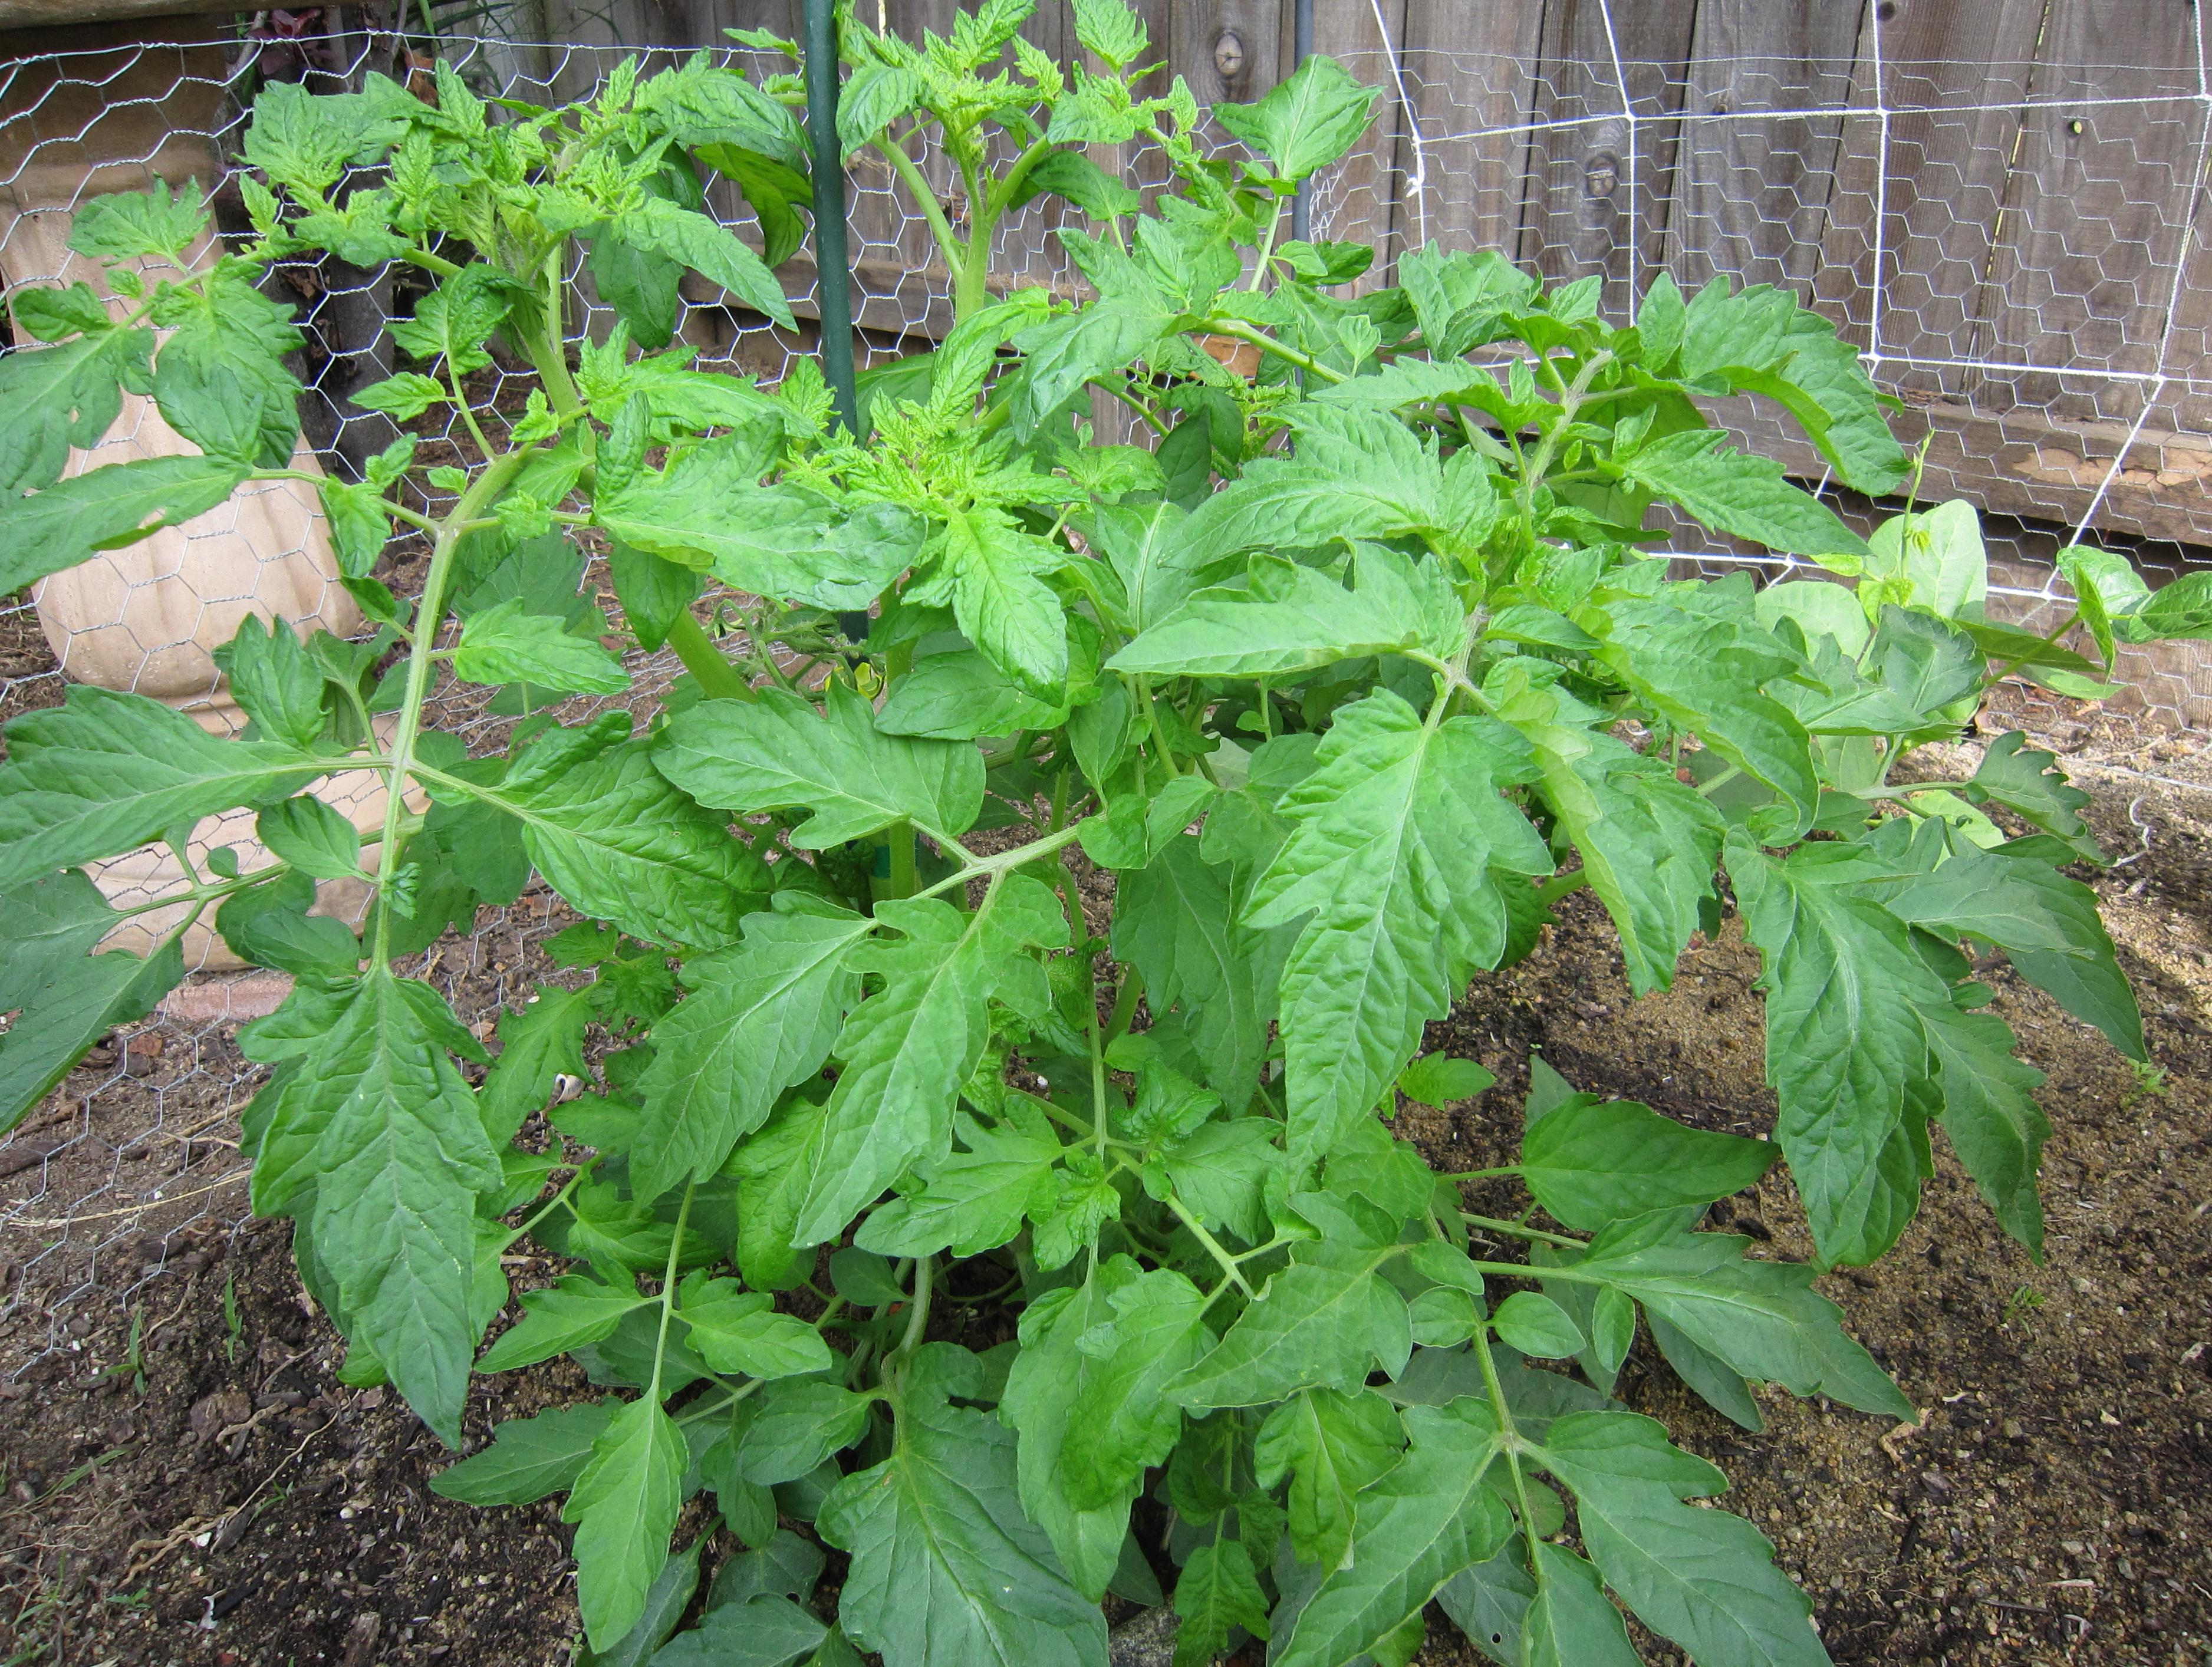Tomato leaf: (268, 977, 518, 1499), (1250, 711, 1515, 1140), (1725, 776, 1928, 1289), (0, 646, 354, 930), (504, 413, 960, 609), (613, 869, 870, 1212), (813, 1378, 1100, 1667), (1618, 250, 1920, 522), (1236, 1401, 1529, 1667), (1557, 1389, 1825, 1667), (645, 685, 998, 893), (1095, 767, 1291, 1142), (1175, 408, 1548, 601), (1492, 655, 1709, 974), (1117, 545, 1455, 741), (1594, 1215, 1891, 1438), (1869, 812, 2149, 1047), (783, 926, 974, 1270), (1173, 1227, 1448, 1466), (0, 427, 247, 669), (1044, 1243, 1245, 1536), (1592, 404, 1860, 606), (1520, 536, 1821, 713), (0, 907, 196, 1168), (816, 1122, 1082, 1313), (1012, 214, 1250, 419), (560, 172, 807, 368), (1497, 1084, 1765, 1243), (1273, 326, 1557, 475), (918, 489, 1077, 713), (1088, 601, 1434, 681), (1221, 56, 1385, 214), (429, 599, 657, 706)
